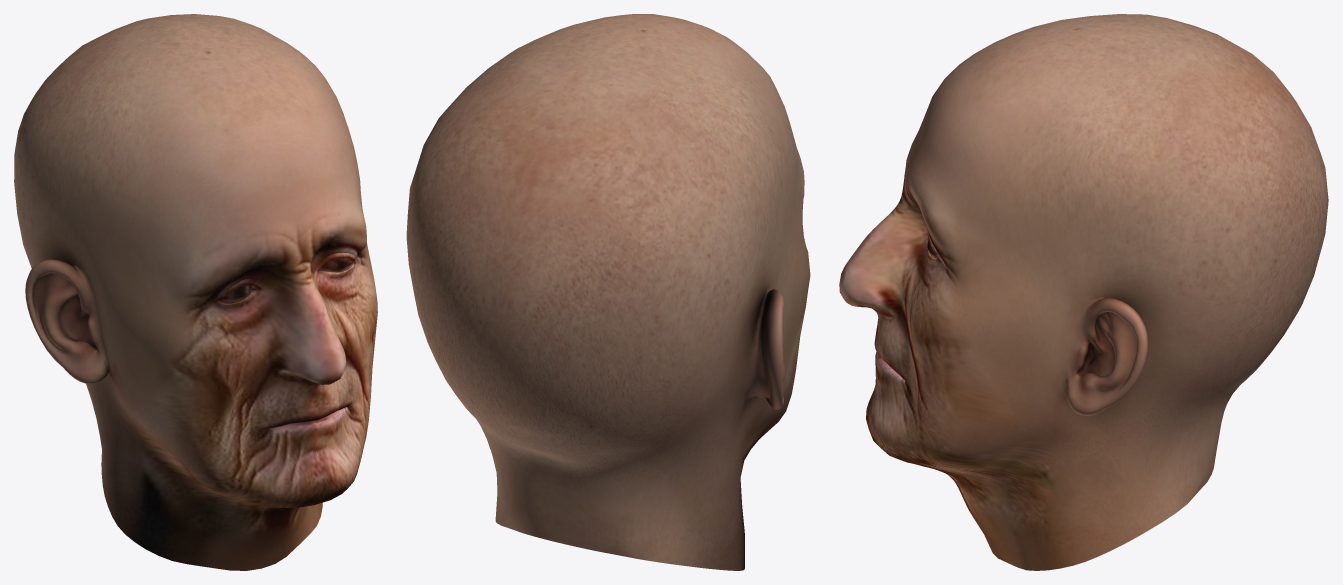
Rendered from Old Man Clem Head model.fbx.
3 renders of one model, left to right at view 1: azimuth 30°, elevation 25°; view 2: azimuth 150°, elevation 25°; view 3: azimuth 270°, elevation 25°, orthographic. The views are drawn at different scales.
Visible parts, largest first — view 1: Head; view 2: Head; view 3: Head.
Part boxes in pixels (x1,y1,x2,y2): Head: (14, 14, 377, 570); Head: (406, 14, 810, 570); Head: (839, 14, 1328, 570).
Size of the model in its own units: 0.1899 by 0.2758 by 0.2376.
